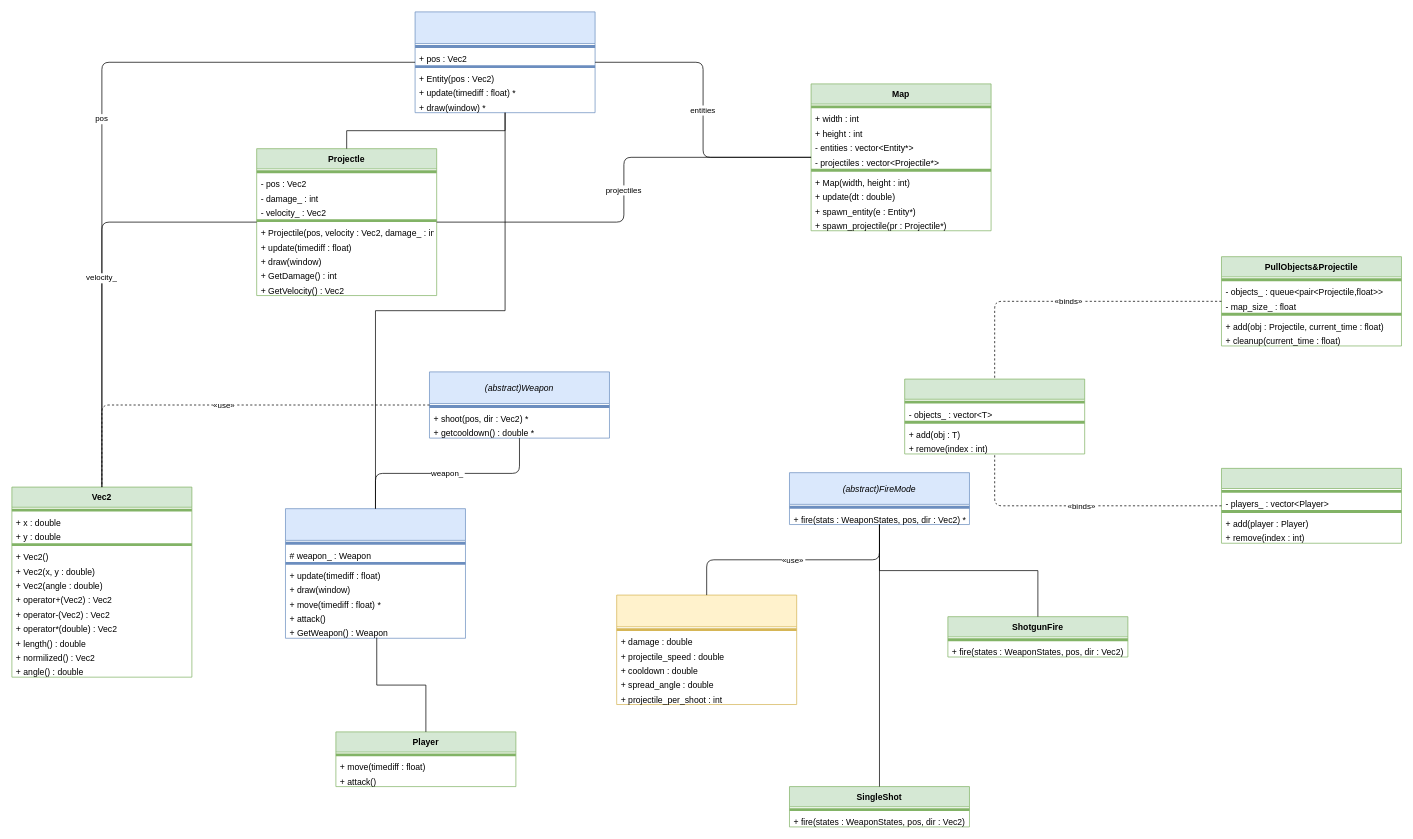
Image size: 1413x839. Some labels were removed from this diagram. The box of each missing label's shape, as (x1, y1, x2, y2) in pixels:
(abstract)Charecter: (285, 508, 465, 638)
abstract Entity: (414, 11, 595, 113)
PullObjects: (904, 378, 1085, 454)
PullObjects&lPlayer: (1221, 468, 1401, 543)
WeaponState: (616, 594, 797, 705)
